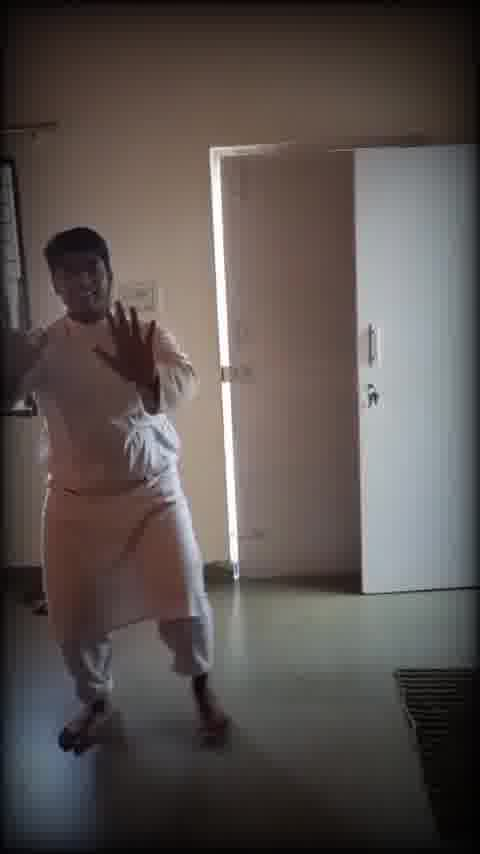duck: (11, 224, 245, 751)
